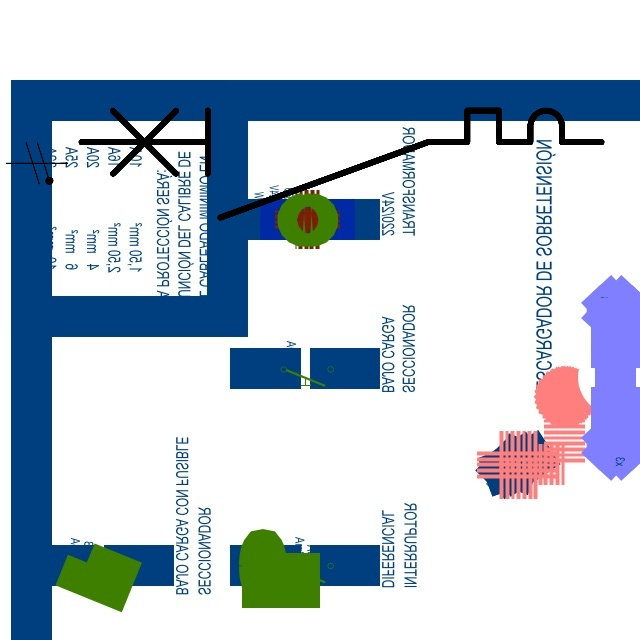interruptor_termomagnetico: (67, 97, 615, 231)
